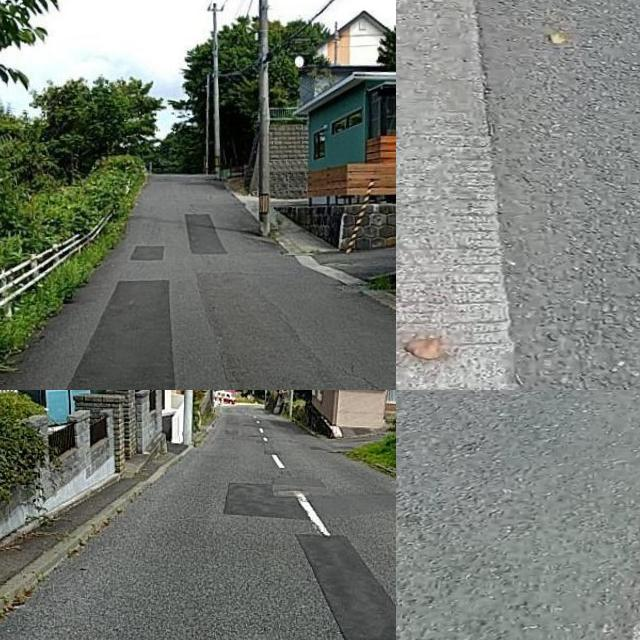Sambungan: (396, 0, 516, 390), (68, 279, 176, 390), (299, 534, 396, 640), (226, 483, 309, 515), (185, 209, 228, 254), (132, 243, 164, 263)
